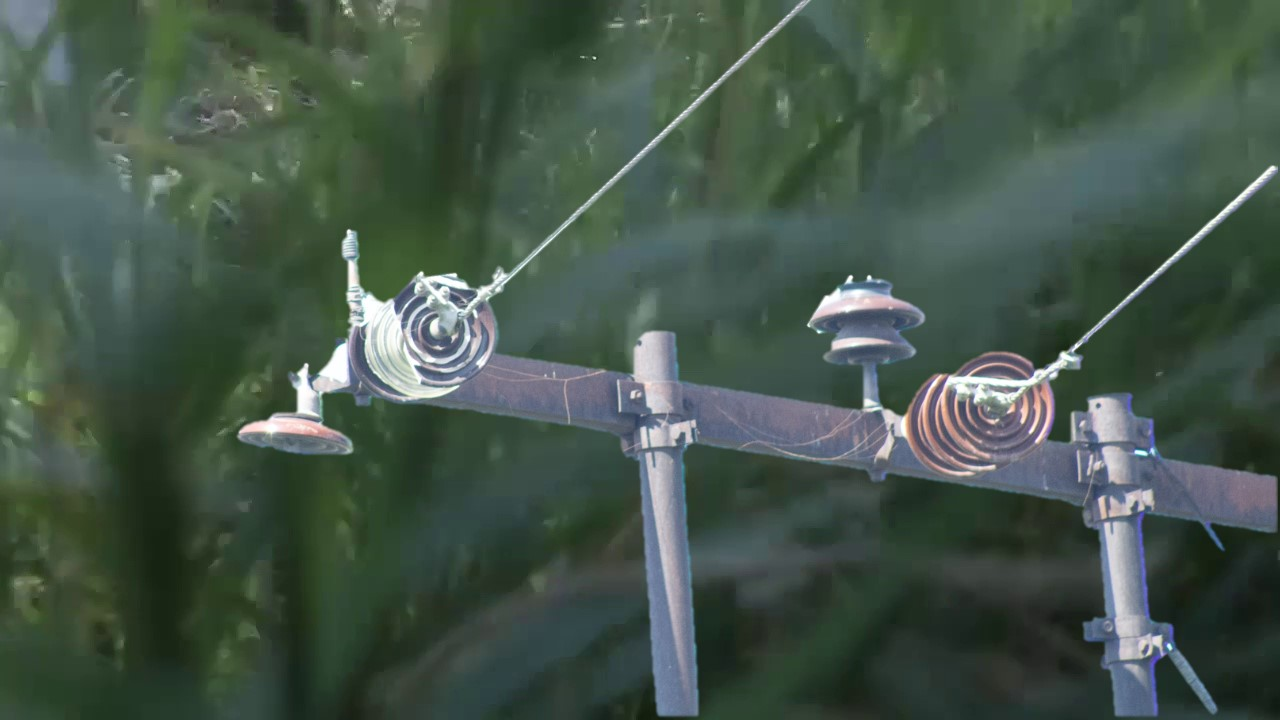defect_disc: (393, 267, 502, 390)
insulator_disc: (937, 343, 1057, 462), (229, 401, 360, 463)
